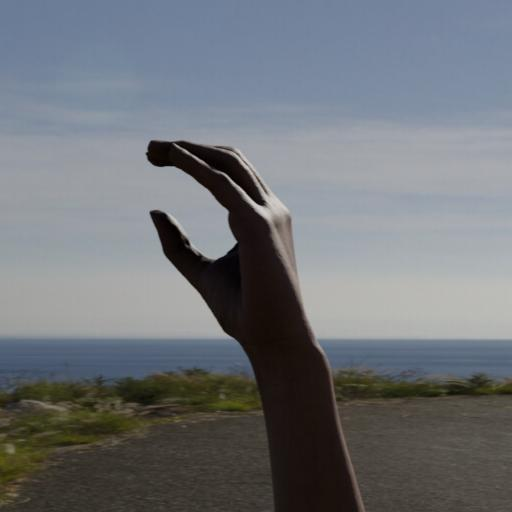C: (110, 104, 369, 392)
